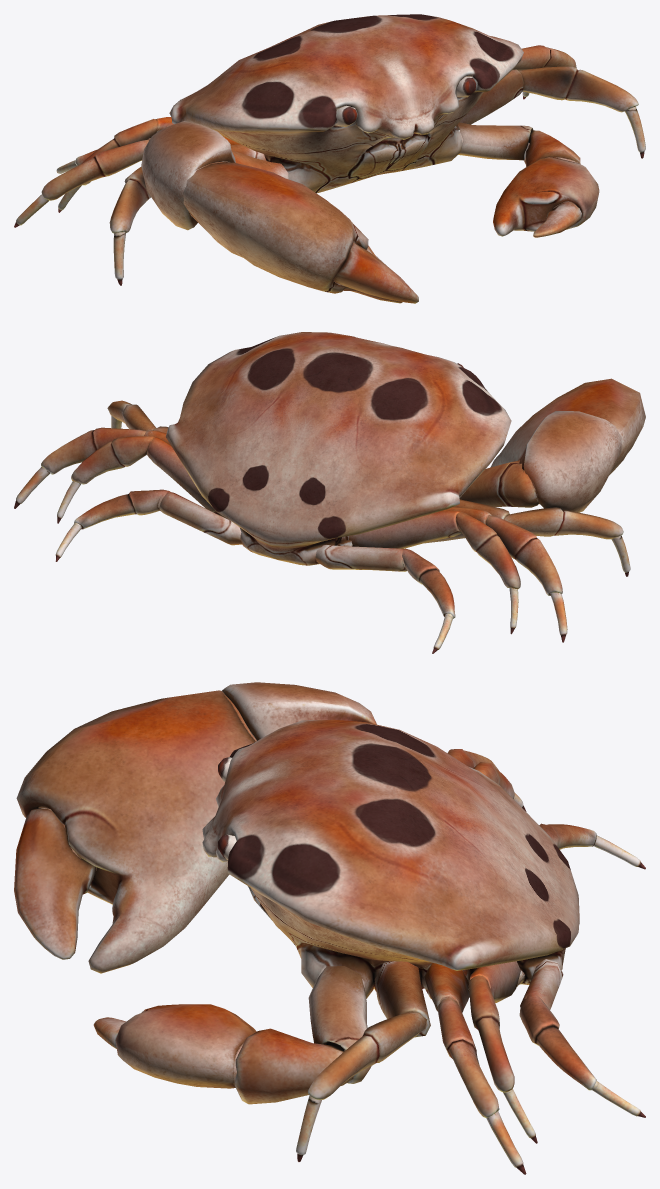
Rendered from crab_7-_eleven.glb.
3 views of the same model, one above another, from view 1: azimuth 30°, elevation 25°; view 2: azimuth 150°, elevation 25°; view 3: azimuth 270°, elevation 25° (orthographic). The views are drawn at different scales.
Visible parts, largest first — view 1: Body_L, 6_L, 7_L, 1_L, 10_L, 13_L, 5_L, 4_L, 9_L, 3_L, 11_L, 2_L (+3 smaller); view 2: Body_L, 7_L, 6_L, 13_L, 16_L, 18_L, 15_L, 10_L, 19_L, 8_L, 14_L, 17_L (+4 smaller); view 3: Body_L, 6_L, 1_L, 5_L, 3_L, 7_L, 4_L, 19_L, 10_L, 13_L, 16_L, 9_L (+6 smaller).
Part boxes in pixels (bbox=[...]): Body_L: bbox=[169, 14, 523, 193]; 6_L: bbox=[183, 161, 402, 303]; 7_L: bbox=[141, 121, 235, 230]; 1_L: bbox=[493, 157, 599, 236]; 10_L: bbox=[109, 66, 638, 233]; 13_L: bbox=[41, 45, 576, 200]; 5_L: bbox=[333, 242, 418, 303]; 4_L: bbox=[457, 122, 533, 160]; 9_L: bbox=[230, 69, 523, 160]; 3_L: bbox=[523, 130, 580, 166]; 11_L: bbox=[113, 106, 645, 285]; 2_L: bbox=[533, 202, 581, 237]; Body_L: bbox=[165, 332, 511, 565]; 7_L: bbox=[518, 411, 621, 512]; 6_L: bbox=[490, 378, 645, 475]; 13_L: bbox=[41, 427, 562, 595]; 16_L: bbox=[71, 436, 520, 589]; 18_L: bbox=[159, 492, 406, 571]; 15_L: bbox=[146, 437, 461, 548]; 10_L: bbox=[107, 400, 623, 539]; 19_L: bbox=[74, 489, 455, 618]; 8_L: bbox=[459, 460, 538, 507]; 14_L: bbox=[14, 467, 567, 642]; 17_L: bbox=[57, 481, 518, 634]; Body_L: bbox=[202, 719, 579, 998]; 6_L: bbox=[16, 690, 256, 973]; 1_L: bbox=[115, 1004, 256, 1088]; 5_L: bbox=[14, 808, 96, 959]; 3_L: bbox=[234, 1028, 353, 1104]; 7_L: bbox=[222, 682, 376, 740]; 4_L: bbox=[308, 966, 371, 1083]; 19_L: bbox=[519, 823, 596, 1090]; 10_L: bbox=[308, 1012, 427, 1099]; 13_L: bbox=[438, 749, 499, 1117]; 16_L: bbox=[468, 762, 514, 1092]; 9_L: bbox=[374, 961, 430, 1037].
Bounding box in the file's own units: 7.42 × 2.39 × 5.45.
Materials: 1 (1 with a texture image).
